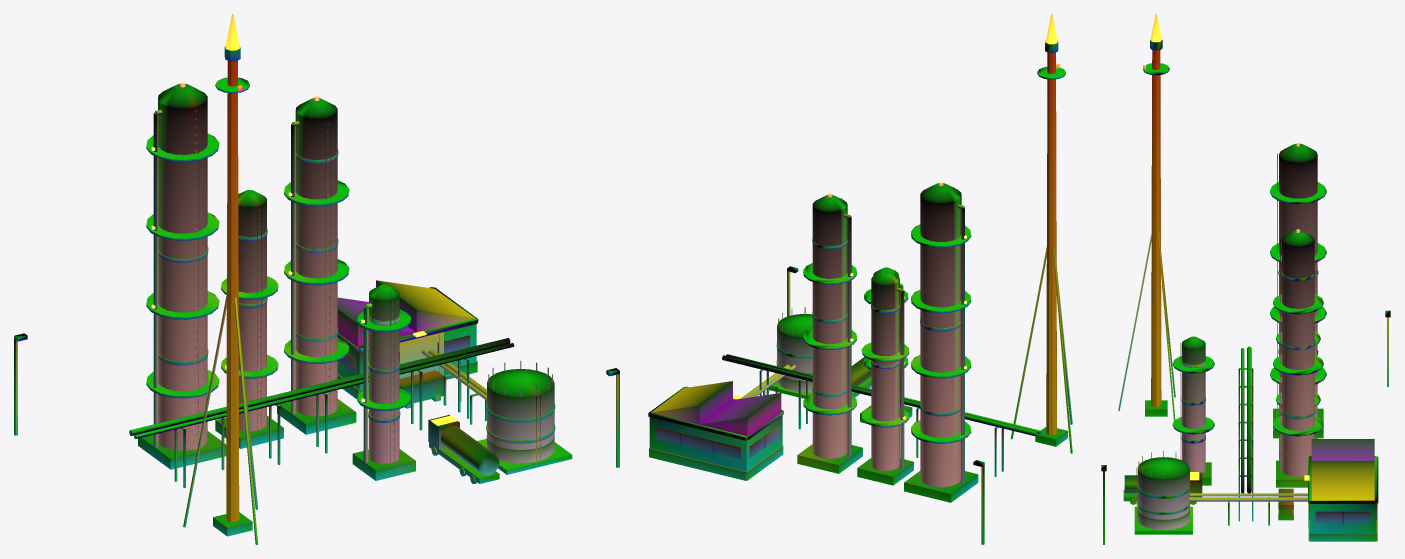
Rendered from Ind_Refinery_V4.fbx.
3 views of the same model, side by side, from view 1: azimuth 30°, elevation 25°; view 2: azimuth 150°, elevation 25°; view 3: azimuth 270°, elevation 25° (orthographic). The views are drawn at different scales.
Visible parts, largest first — view 1: Ind_Refinery_V4_LOD0; view 2: Ind_Refinery_V4_LOD0; view 3: Ind_Refinery_V4_LOD0.
Part boxes in pixels (x1,y1,x2,y2): Ind_Refinery_V4_LOD0: (14, 14, 619, 544); Ind_Refinery_V4_LOD0: (648, 14, 1072, 544); Ind_Refinery_V4_LOD0: (1101, 14, 1390, 544).
Size of what is drawn, in the model's own units: 50.3 by 58.7 by 38.7.
